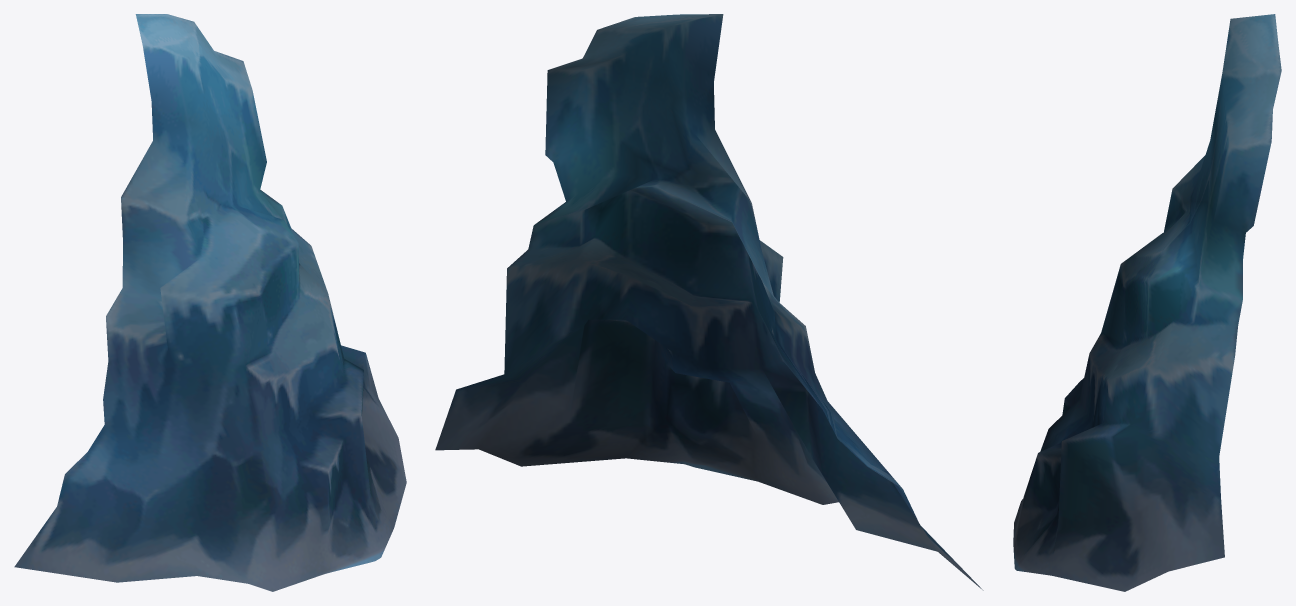
File: yw_bingyuan_bingshan_001.FBX
3 renders of one model, left to right at view 1: azimuth 30°, elevation 25°; view 2: azimuth 150°, elevation 25°; view 3: azimuth 270°, elevation 25°, orthographic. The views are drawn at different scales.
Visible parts, largest first — view 1: yw_bingyuan_bingshan_001; view 2: yw_bingyuan_bingshan_001; view 3: yw_bingyuan_bingshan_001.
Boxes of the visible parts, x1,y1,x2,y2 form: yw_bingyuan_bingshan_001: (14,14,406,591); yw_bingyuan_bingshan_001: (435,14,983,590); yw_bingyuan_bingshan_001: (1013,14,1281,591).
Size of the model in its own units: 670 by 776 by 375.
